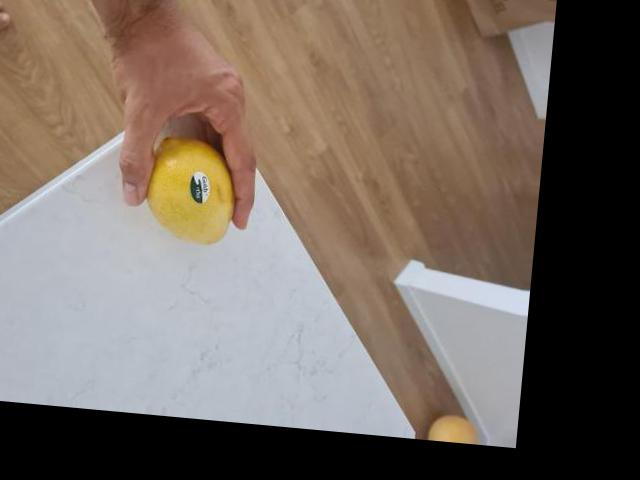lemon: (140, 130, 244, 249)
